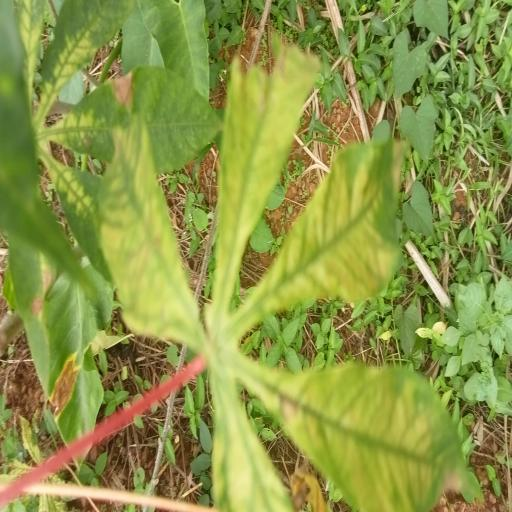Cassava_Mosaic: (98, 44, 480, 512), (0, 0, 229, 289)
